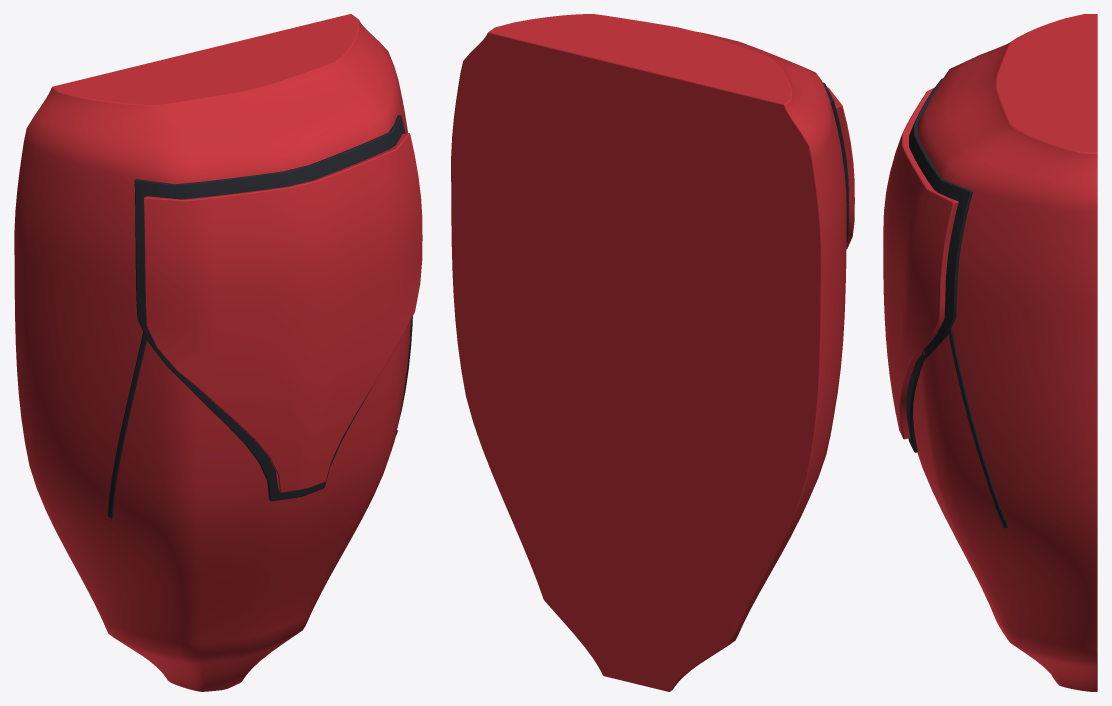
File: ThighFront_Set01_Ironclad.fbx
3 views of the same model, side by side, from view 1: azimuth 30°, elevation 25°; view 2: azimuth 150°, elevation 25°; view 3: azimuth 270°, elevation 25° (orthographic). The views are drawn at different scales.
Visible parts, largest first — view 1: ThighFront_Set01_Ironclad; view 2: ThighFront_Set01_Ironclad; view 3: ThighFront_Set01_Ironclad.
Part boxes in pixels (<box>): ThighFront_Set01_Ironclad: <box>14,14,422,691</box>; ThighFront_Set01_Ironclad: <box>451,14,854,691</box>; ThighFront_Set01_Ironclad: <box>883,14,1097,691</box>.
Bounding box in the file's own units: 0.4599 × 0.73 × 0.239.
